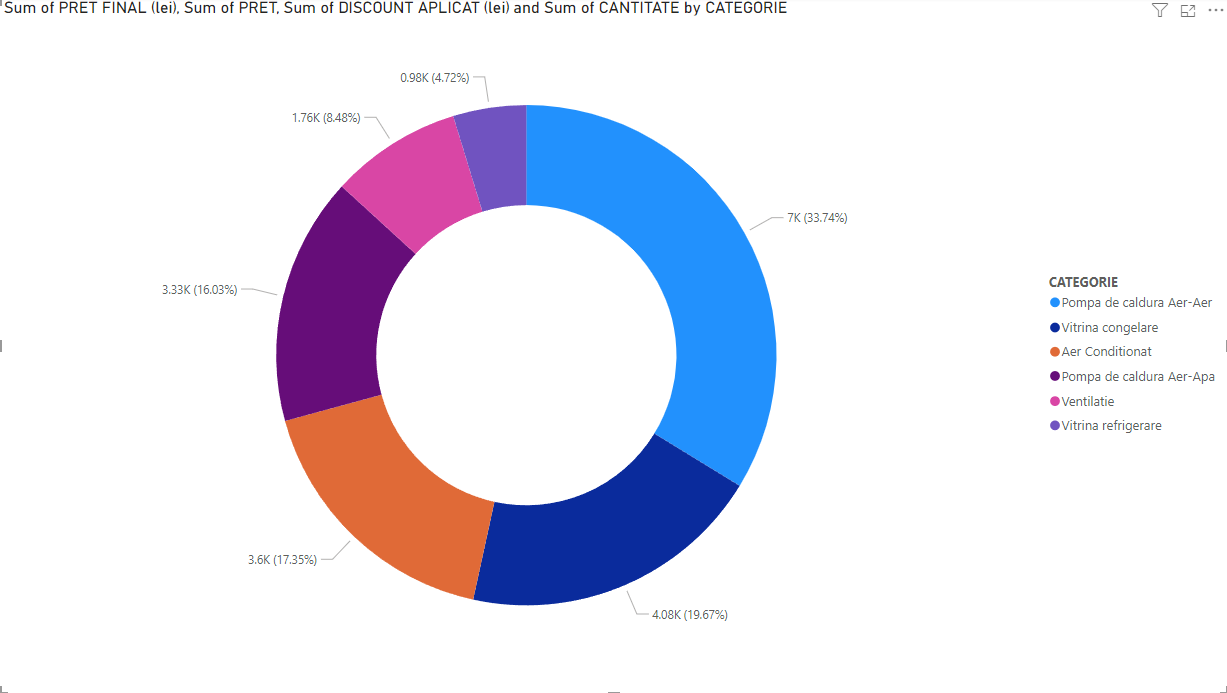

What the dashboard file says about the page in this screenshot:
{"tool":"powerbi","page":{"name":"Page 1","canvas":[1280,720],"ordinal":0},"visuals":[{"type":"pieChart","fields":{"Category":["PRODUSE_CU_DISCOUNT.CATEGORIE"],"Y":["Sum(PRODUSE_CU_DISCOUNT.DISCOUNT APLICAT (lei))","Sum(PRODUSE_CU_DISCOUNT.PRET FINAL (lei))","Sum(PRODUSE_CU_DISCOUNT.CANTITATE)"]},"box":[10.3,0,1269.7,720.5],"z":0}]}

Visuals, with their boxes in screenshot pixels (x1, y1, x2, y2), scaled from the page's 1280x720 canvas onto the 1227x693 screenshot:
pieChart - PRODUSE_CU_DISCOUNT.CATEGORIE x Sum(PRODUSE_CU_DISCOUNT.DISCOUNT APLICAT (lei)): bbox(10, 0, 1226, 692)
